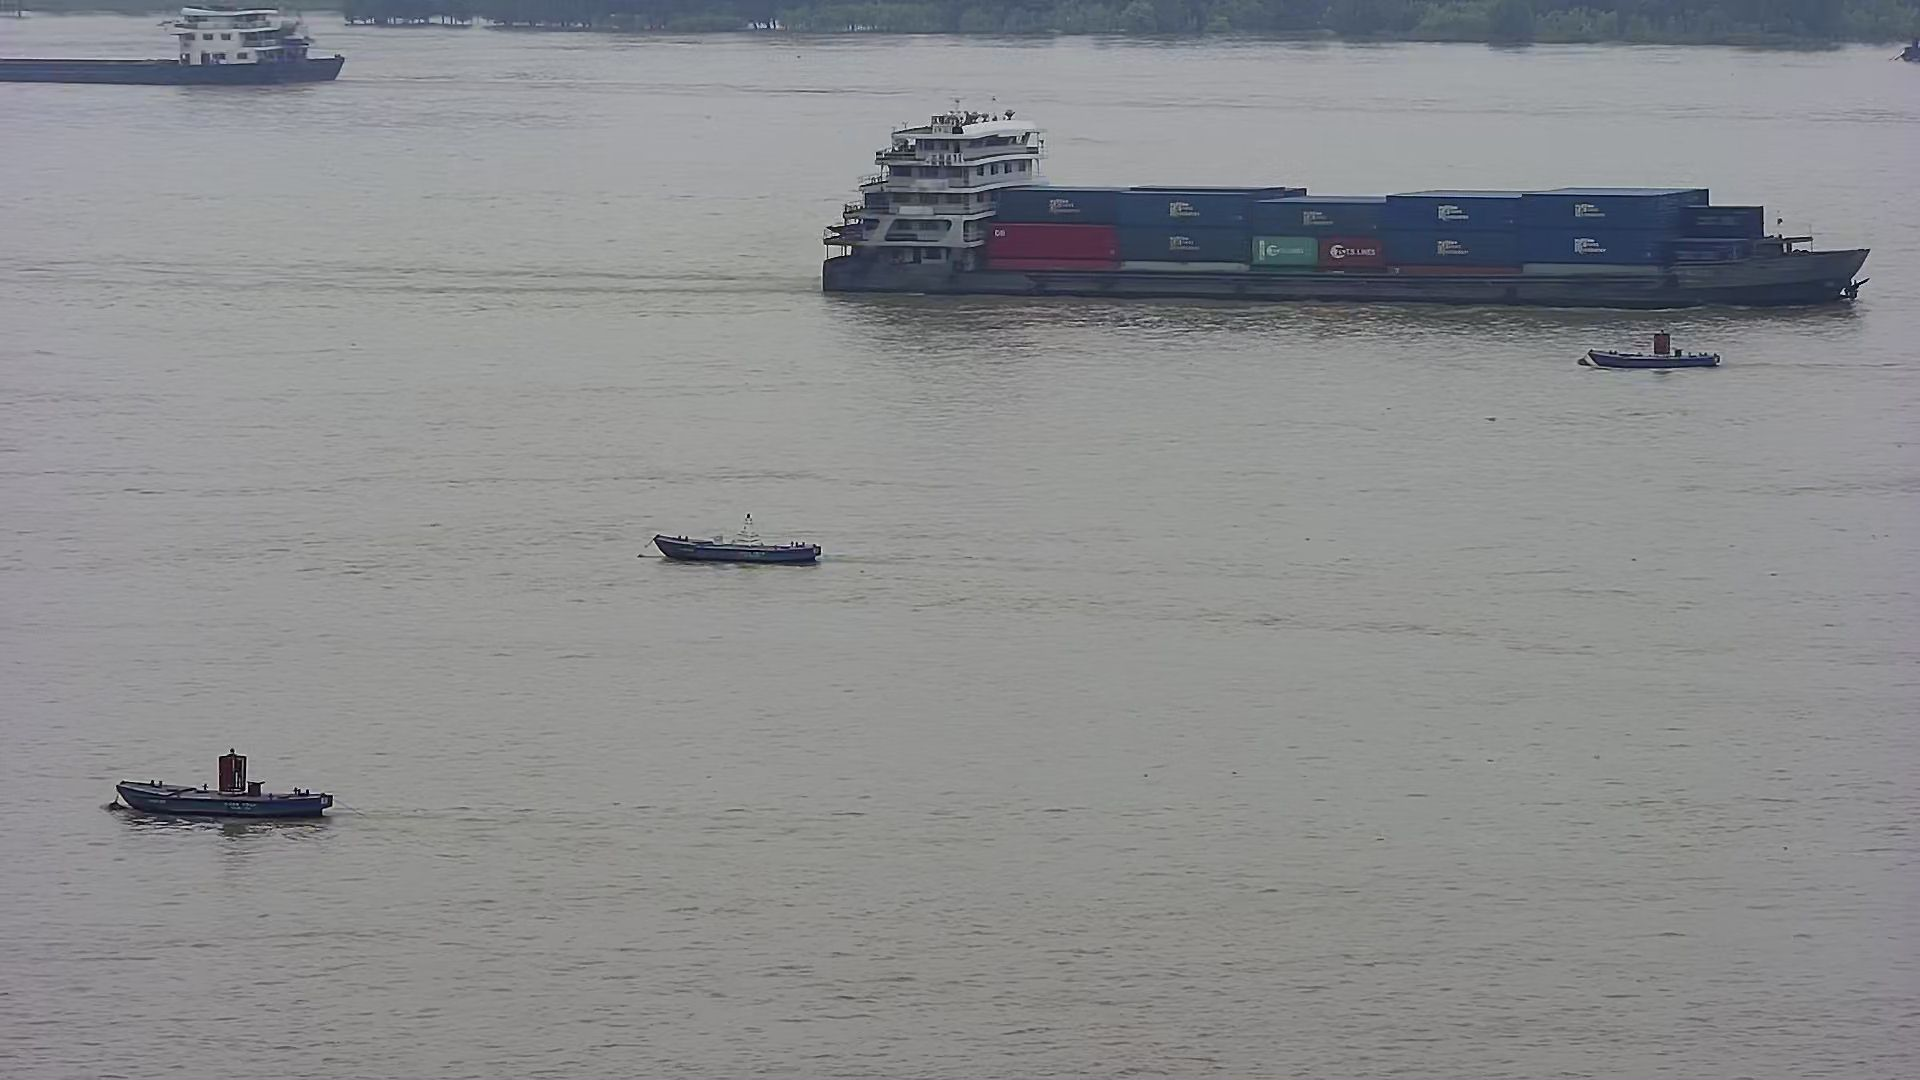boat: (92, 735, 361, 837), (637, 500, 836, 593), (1563, 327, 1743, 382)
ship: (811, 80, 1876, 316), (1, 1, 378, 91)
